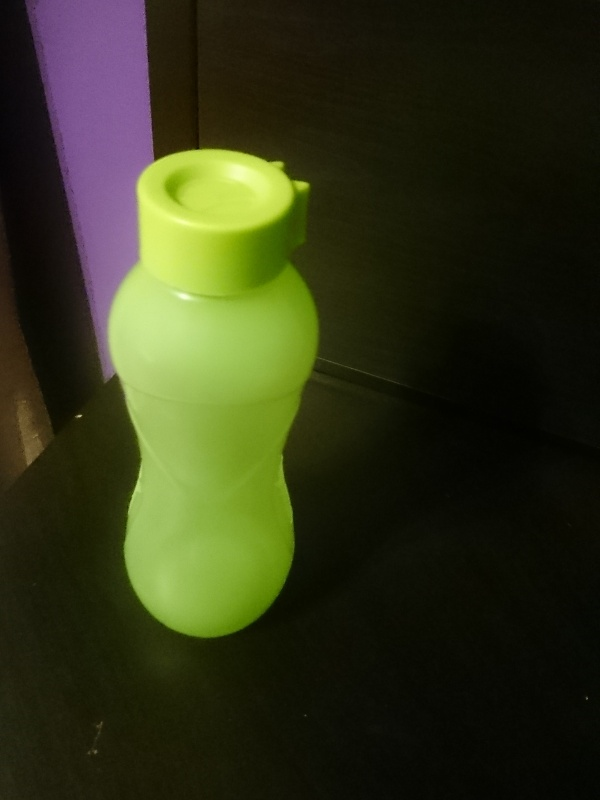my bottle: (104, 147, 321, 640)
